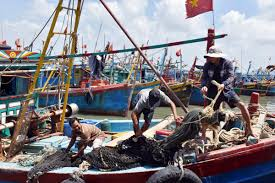tau_dansu: (28, 47, 132, 120), (104, 52, 160, 108)
